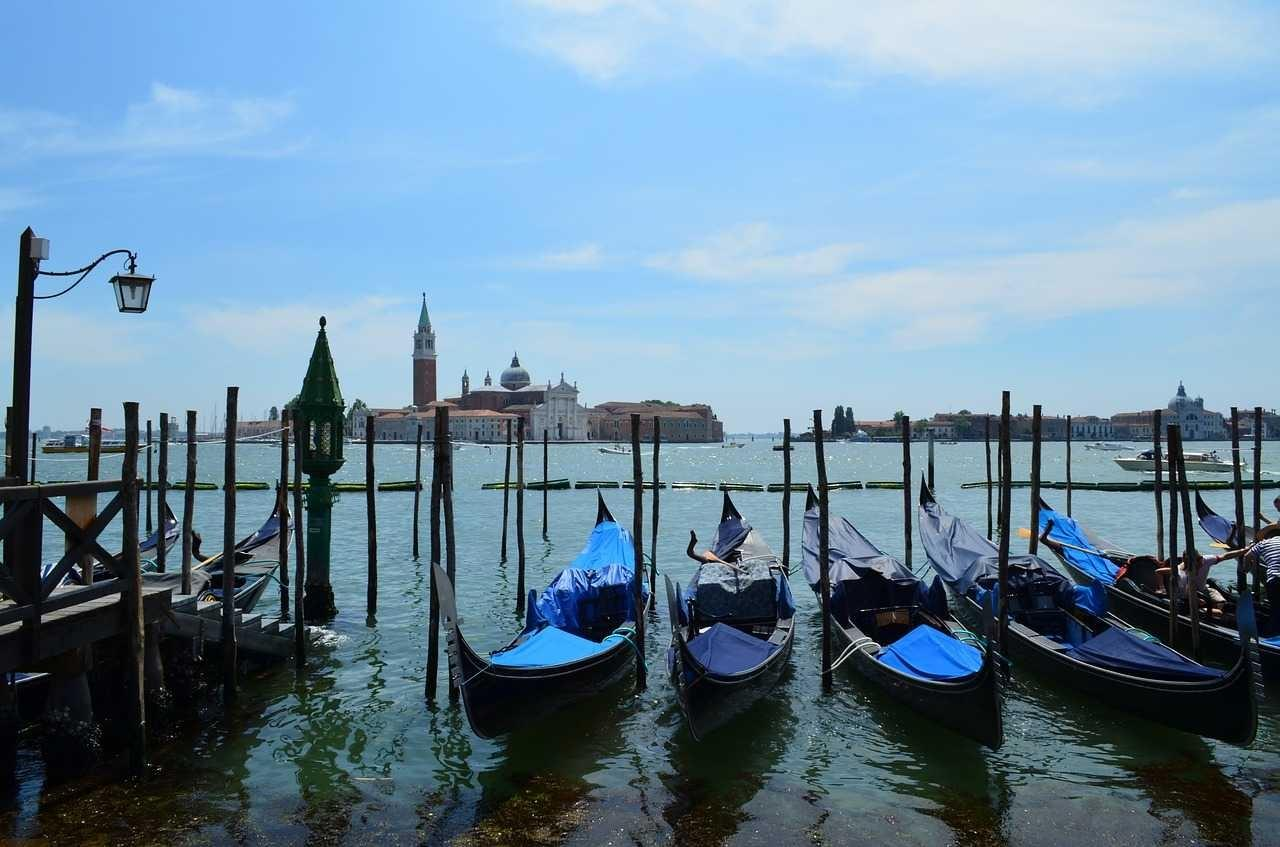kayak: (917, 466, 1255, 741), (437, 488, 647, 735), (1038, 493, 1276, 671), (801, 495, 989, 699), (666, 485, 798, 695), (1194, 487, 1280, 655), (161, 555, 280, 625), (1113, 448, 1240, 475)
